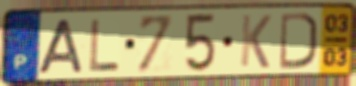5: (182, 12, 219, 74)
7: (137, 12, 177, 75)
A: (36, 17, 86, 76)
D: (278, 11, 320, 71)
K: (238, 13, 274, 71)
L: (88, 18, 122, 72)
